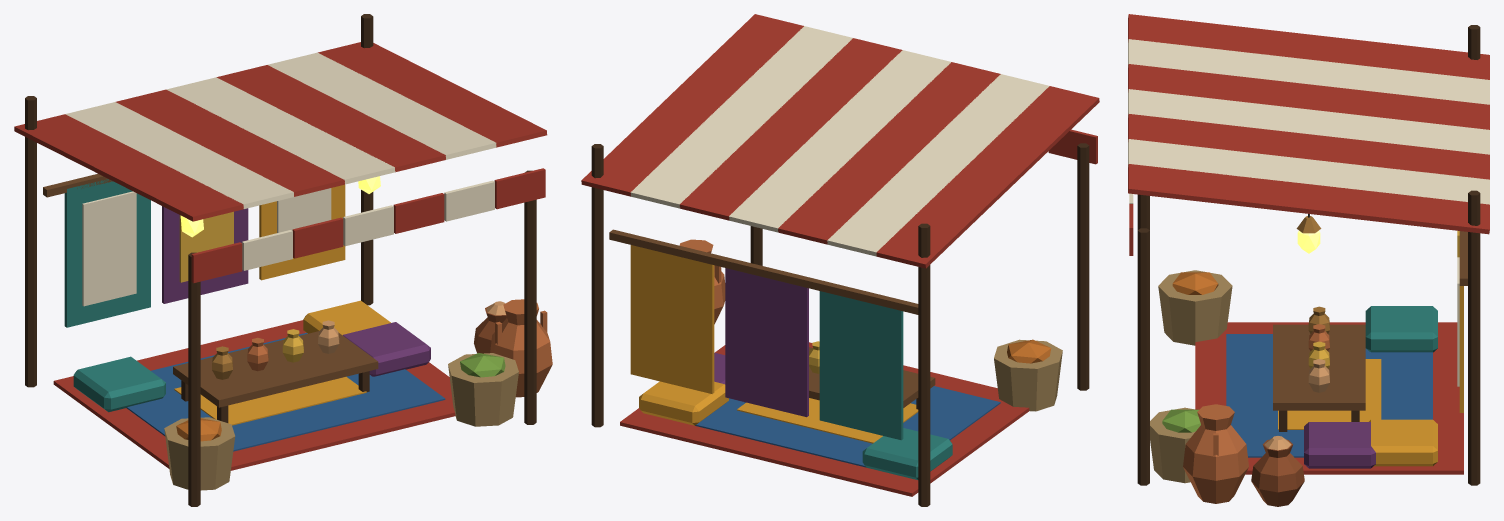
Rendered from desert_awning.glb.
The picture shows the model from 3 angles, left to right: view 1: azimuth 30°, elevation 25°; view 2: azimuth 150°, elevation 25°; view 3: azimuth 270°, elevation 25°; orthographic projection. The views are drawn at different scales.
Visible parts, largest first — view 1: desert_awning; view 2: desert_awning; view 3: desert_awning.
Part boxes in pixels (x1=…): desert_awning: x1=14, y1=14, x2=552, y2=506; desert_awning: x1=581, y1=14, x2=1099, y2=506; desert_awning: x1=1128, y1=14, x2=1489, y2=506.
Bounding box in the file's own units: 4.56 × 3.19 × 3.5.
